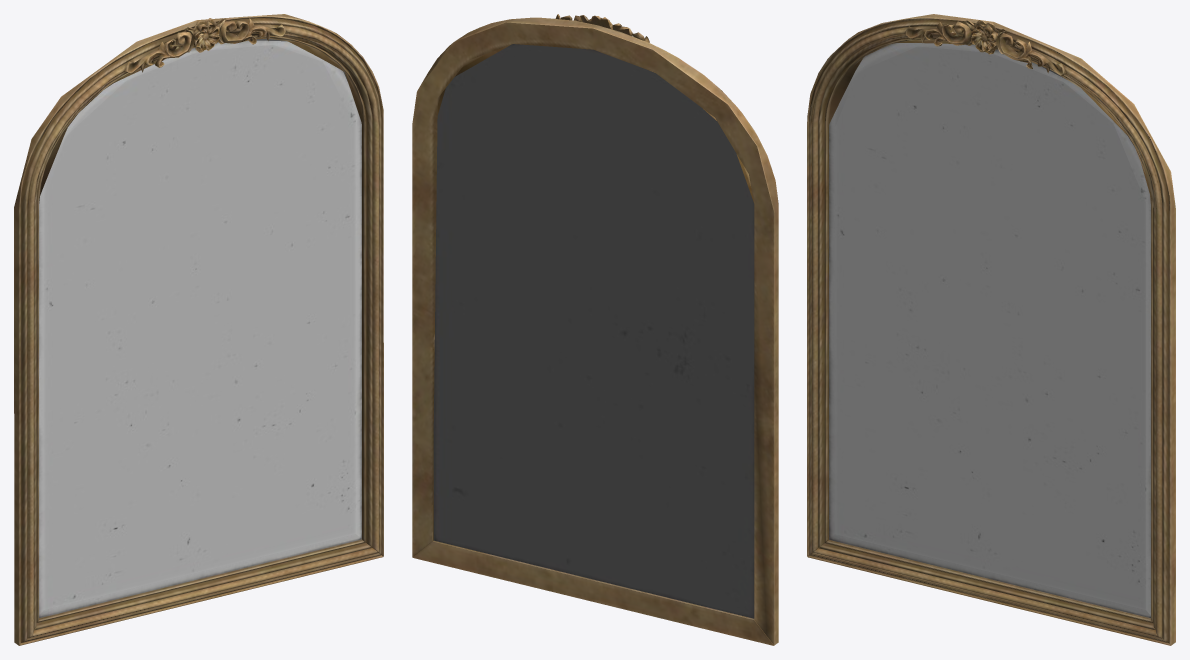
Rendered from ornate_mirror_01.glb.
The picture shows the model from 3 angles, left to right: view 1: azimuth 30°, elevation 25°; view 2: azimuth 150°, elevation 25°; view 3: azimuth 330°, elevation 25°; orthographic projection.
Parts seen in each view (by area): view 1: ornate_mirror_01; view 2: ornate_mirror_01; view 3: ornate_mirror_01.
Part boxes in pixels (<box>): ornate_mirror_01: <box>14,14,383,645</box>; ornate_mirror_01: <box>412,14,778,645</box>; ornate_mirror_01: <box>807,14,1175,645</box>.
Size of the model in its own units: 0.4865 by 0.7442 by 0.026.
1 material, 1 textured.
